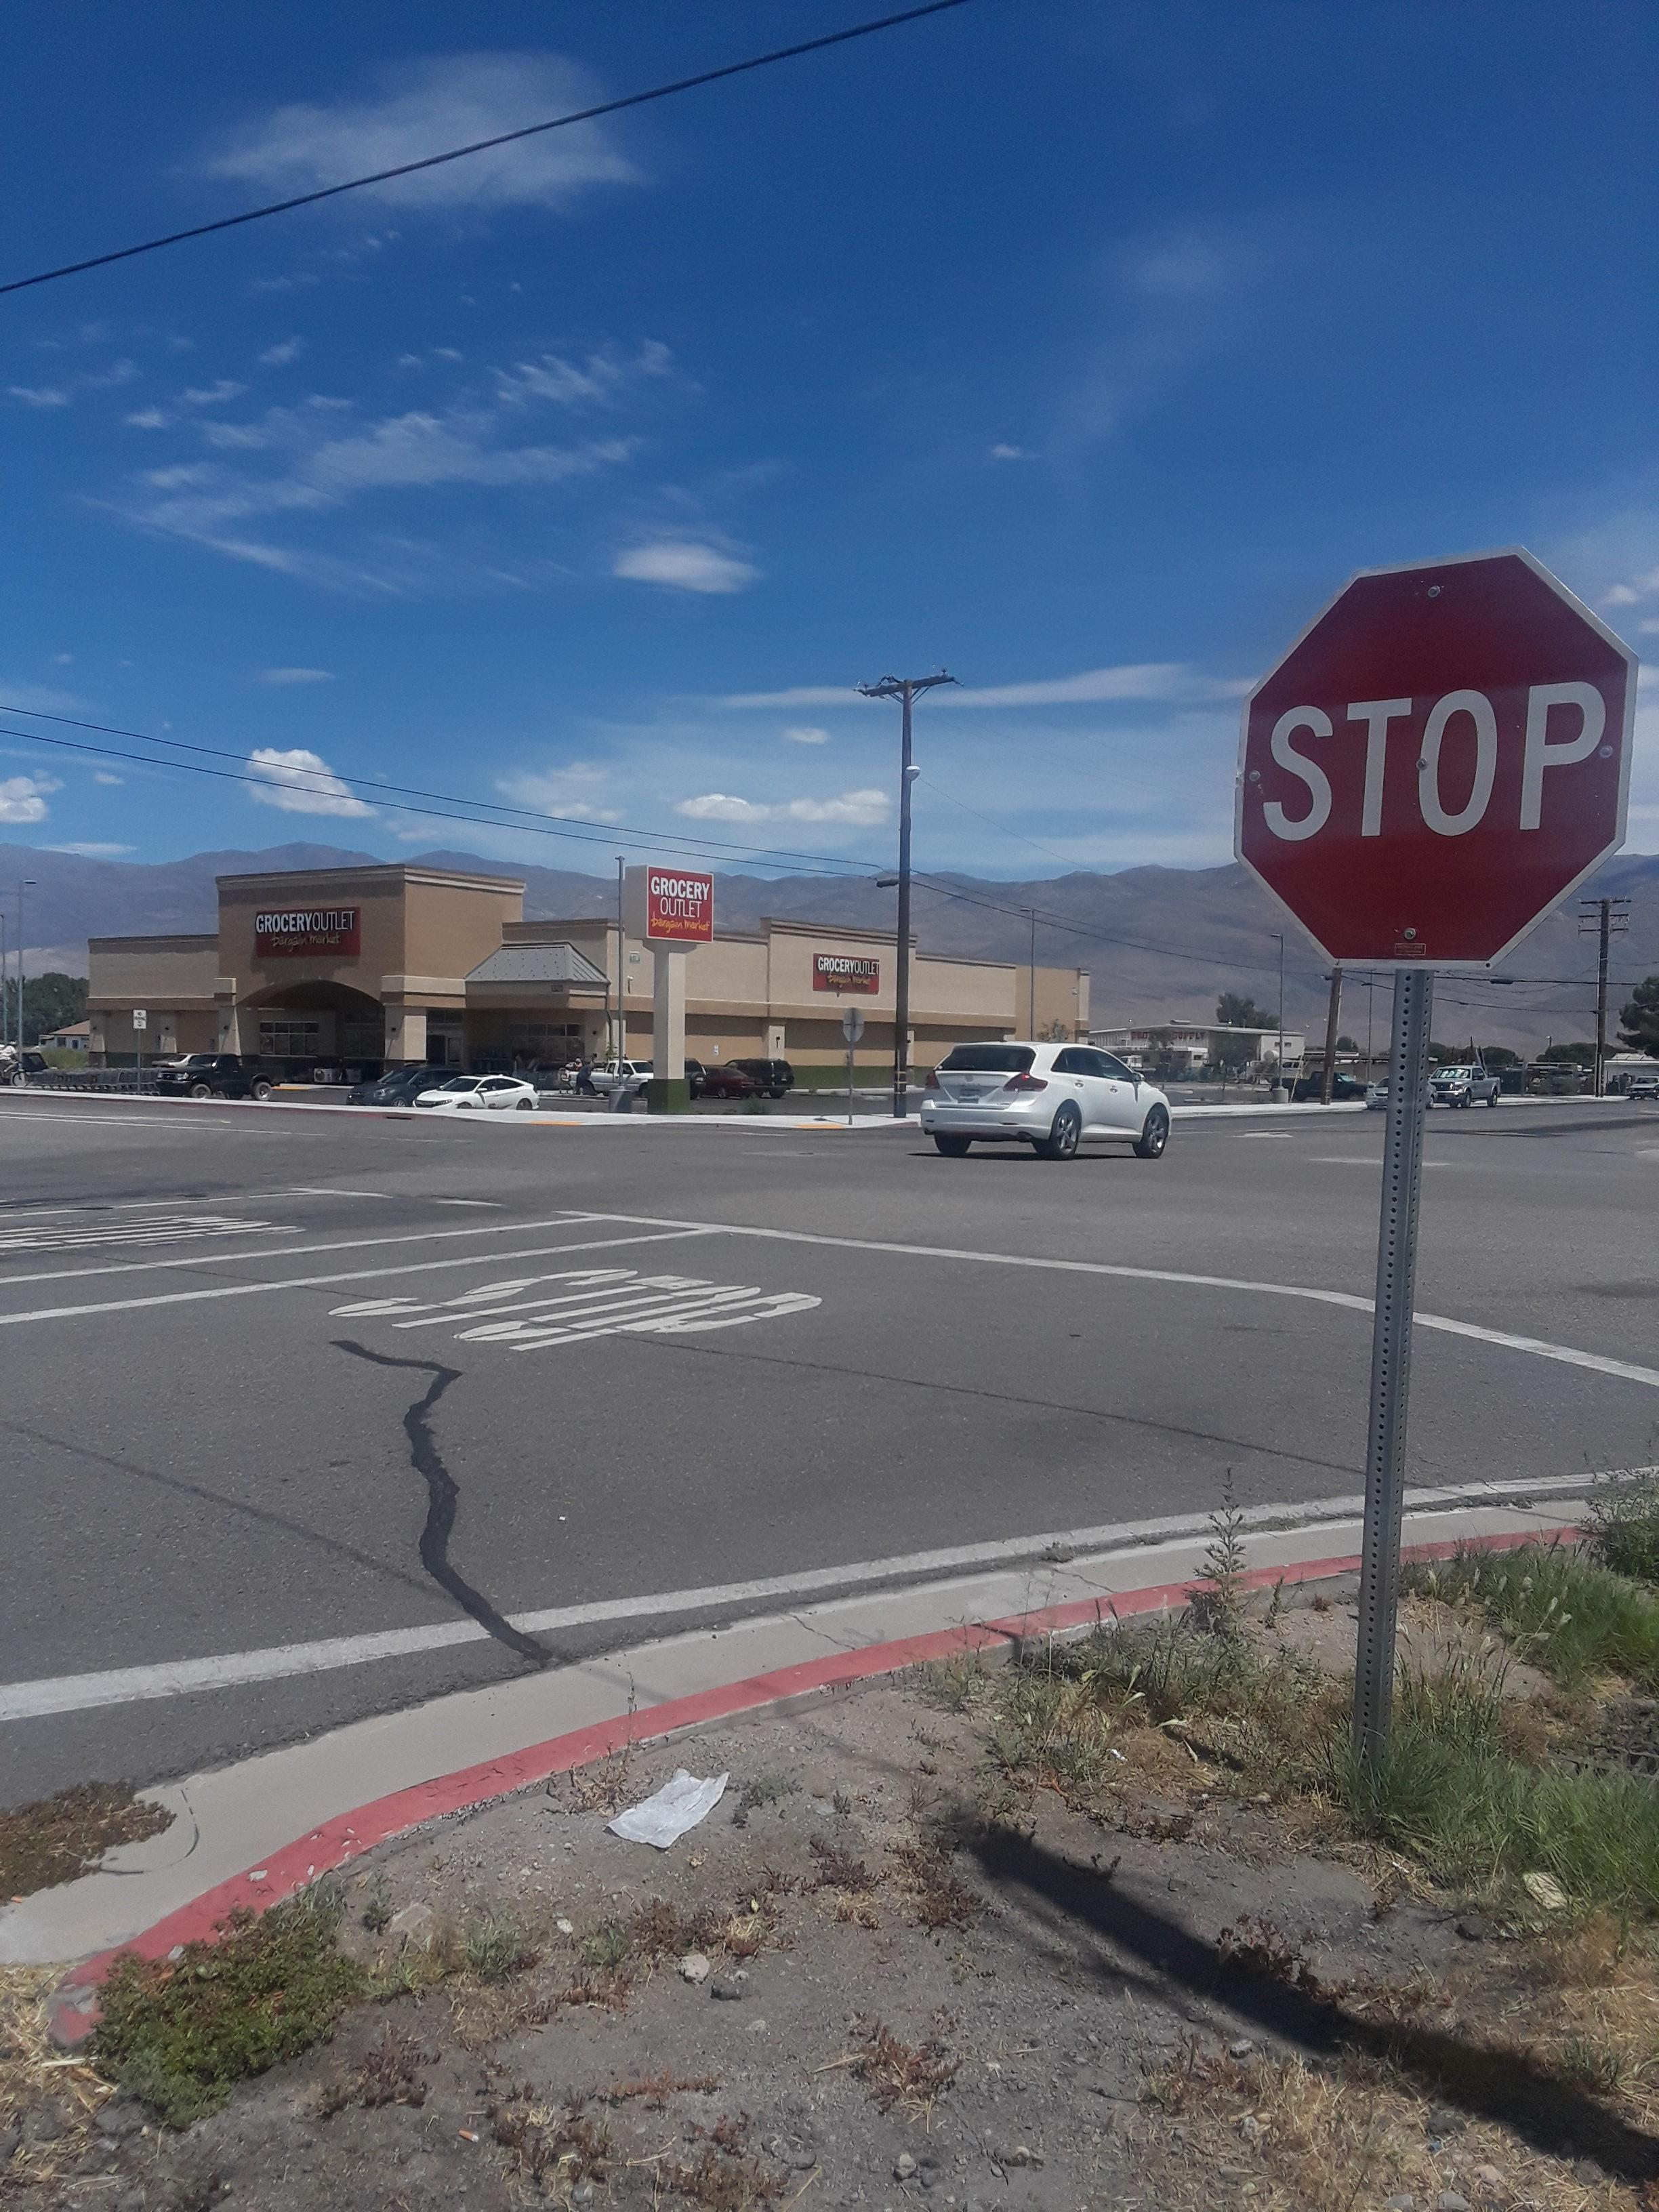Pole: (1351, 974, 1436, 1813)
Sign: (1237, 556, 1640, 953)
